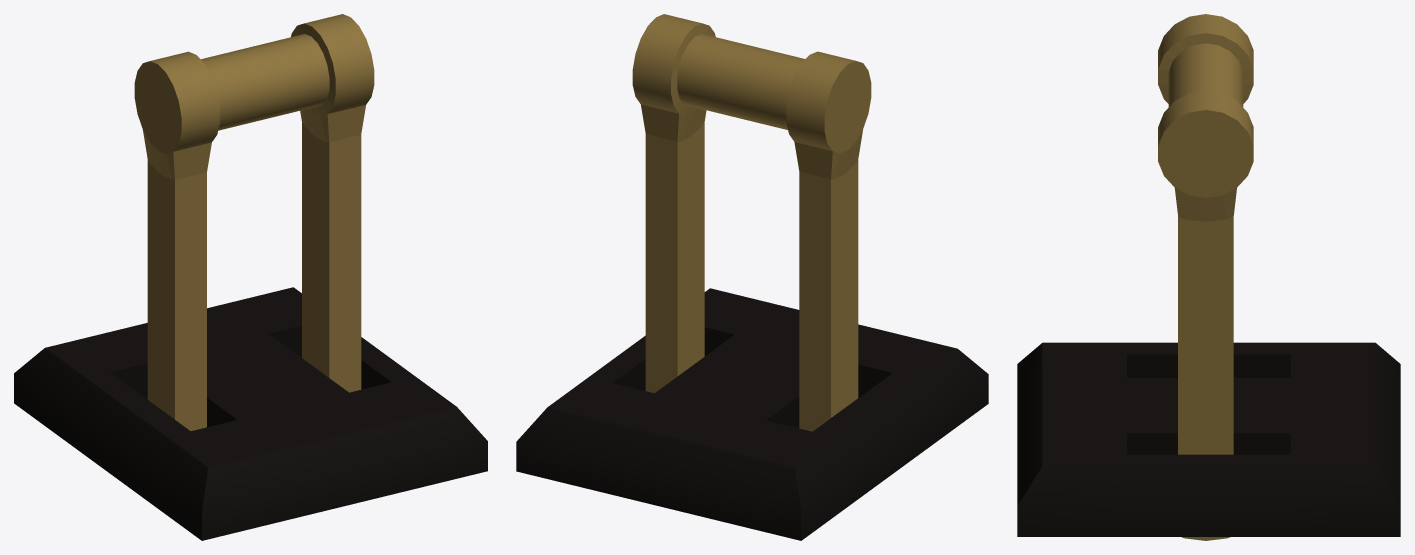
The model's file is action_Levier_01.FBX.
3 views of the same model, side by side, from view 1: azimuth 30°, elevation 25°; view 2: azimuth 150°, elevation 25°; view 3: azimuth 270°, elevation 25° (orthographic). The views are drawn at different scales.
Visible parts, largest first — view 1: Box011, Object001; view 2: Box011, Object001; view 3: Box011, Object001.
Boxes of the visible parts, x1,y1,x2,y2 form: Box011: [14, 287, 487, 540]; Object001: [134, 14, 374, 430]; Box011: [516, 288, 988, 540]; Object001: [632, 14, 871, 431]; Box011: [1017, 342, 1400, 536]; Object001: [1158, 14, 1253, 540].
Bounding box in the file's own units: 15.33 × 21.74 × 17.46.
